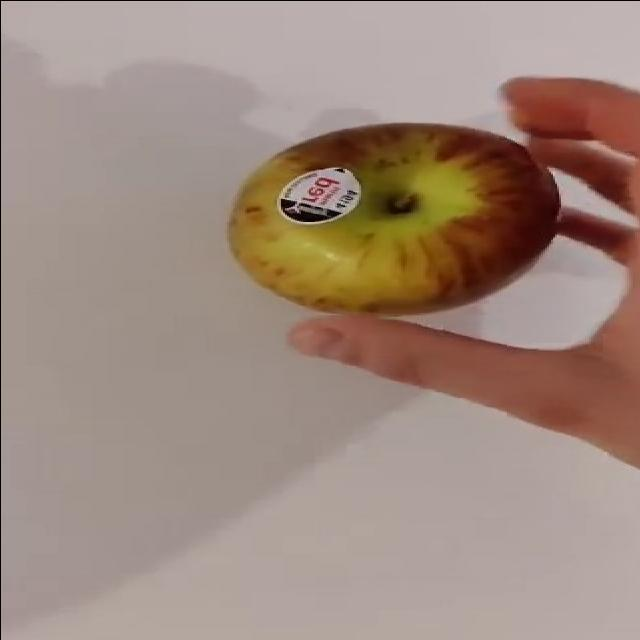Apple: (227, 121, 561, 316)
